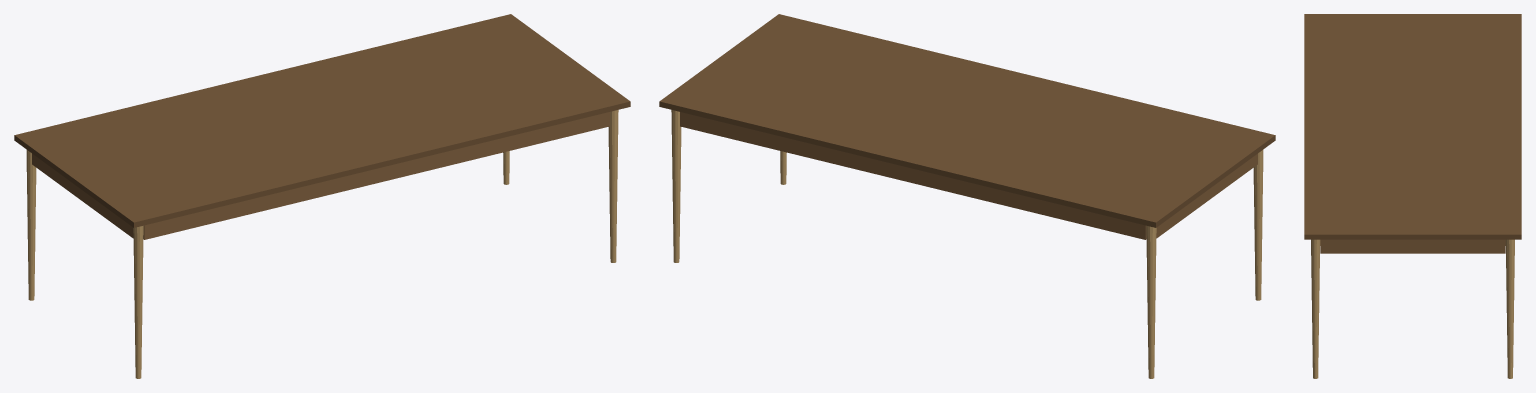
Rendered from ATL-DTB-8-seat.glb.
3 views of the same model, side by side, from view 1: azimuth 30°, elevation 25°; view 2: azimuth 150°, elevation 25°; view 3: azimuth 270°, elevation 25° (orthographic). The views are drawn at different scales.
Parts seen in each view (by area): view 1: top:pbr, apron-f:pbr, leg-fl:pbr, leg-fr:pbr, leg-bl:pbr, apron-l:pbr; view 2: top:pbr, apron-b:pbr, leg-bl:pbr, leg-br:pbr, leg-fl:pbr, apron-l:pbr; view 3: top:pbr, apron-r:pbr, leg-fr:pbr, leg-br:pbr.
Boxes of the visible parts, x1,y1,x2,y2 form: top:pbr: (14,14,630,227); apron-f:pbr: (143,112,609,239); leg-fl:pbr: (133,225,143,378); leg-fr:pbr: (608,110,618,262); leg-bl:pbr: (26,149,36,300); apron-l:pbr: (32,153,133,238); top:pbr: (659,14,1275,227); apron-b:pbr: (680,112,1146,239); leg-bl:pbr: (1146,225,1156,378); leg-br:pbr: (671,110,681,262); leg-fl:pbr: (1253,149,1263,300); apron-l:pbr: (1156,153,1257,238); top:pbr: (1304,14,1521,239); apron-r:pbr: (1320,239,1505,253); leg-fr:pbr: (1311,239,1320,378); leg-br:pbr: (1505,239,1514,378).
Bounding box in the file's own units: 2.4 × 0.75 × 1.
